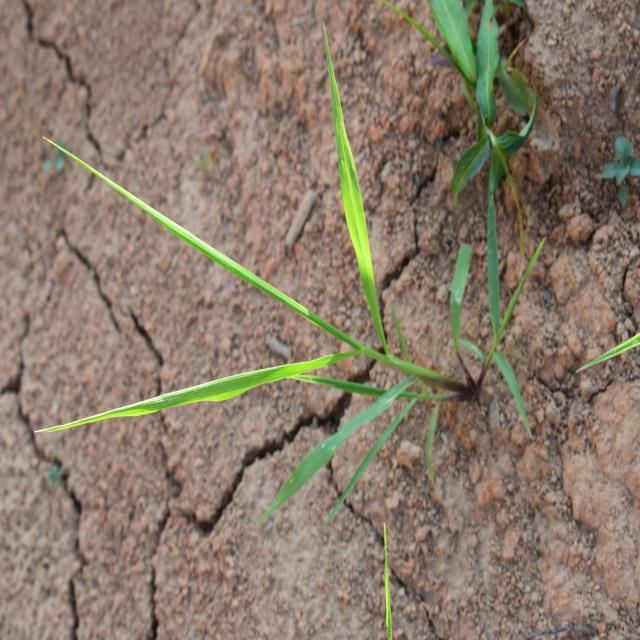green_foxtail: (38, 139, 512, 466)
